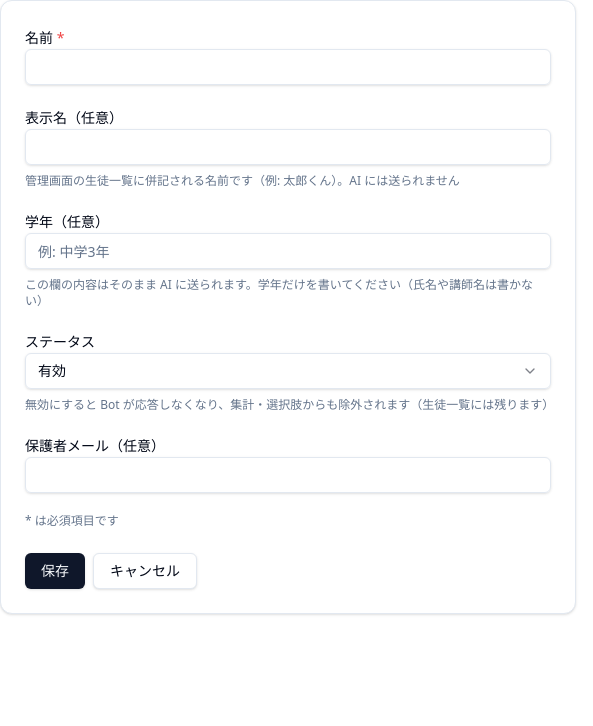
Test: PersonForm（ヘルプ文が実装と一致している） › 学年欄のエラー時もヘルプ文が読み上げ対象に残る
Step 1. Type "太郎" into the field labelled "名前 *" → [288, 67], box [25,49,551,85]
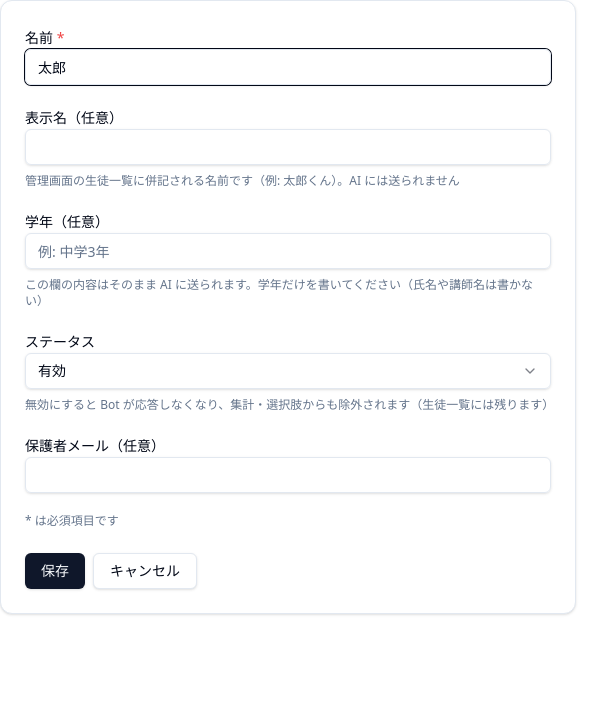
Step 2. Click the button "保存" → [55, 571], box [25,553,85,589]
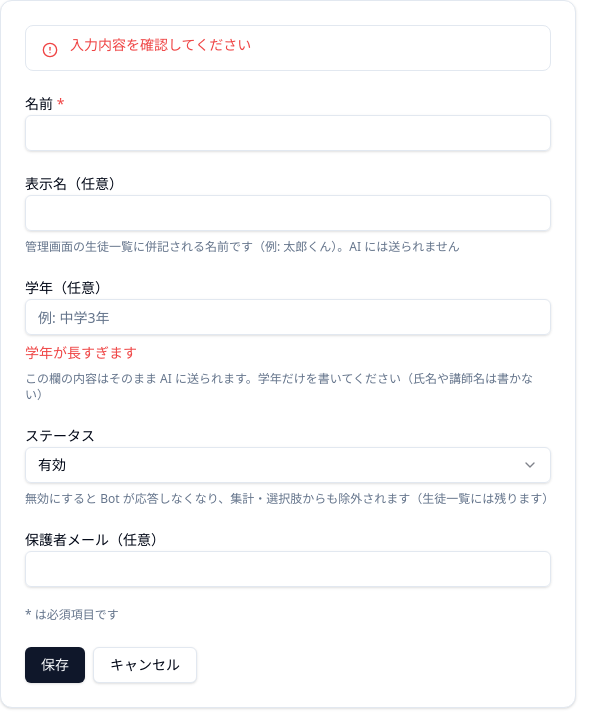
Check: the text "学年が長すぎます" is shown, box [25,343,137,362]
